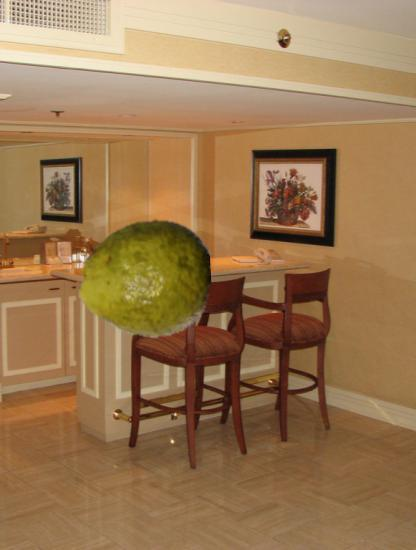Guava: (78, 212, 212, 346)
